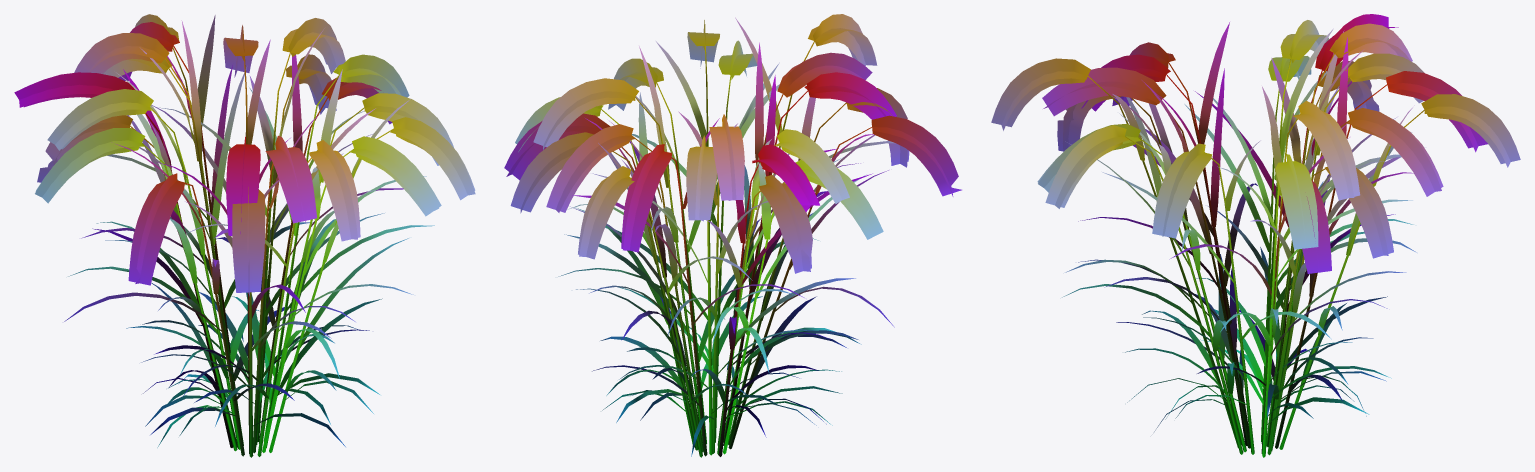
Rendered from Rice_Ripe_B_HD.fbx.
3 renders of one model, left to right at view 1: azimuth 30°, elevation 25°; view 2: azimuth 150°, elevation 25°; view 3: azimuth 270°, elevation 25°, orthographic. The views are drawn at different scales.
Parts seen in each view (by area): view 1: Rice_Ripe_B_HD_LOD0; view 2: Rice_Ripe_B_HD_LOD0; view 3: Rice_Ripe_B_HD_LOD0.
Part boxes in pixels (x1=…): Rice_Ripe_B_HD_LOD0: x1=14, y1=14, x2=475, y2=457; Rice_Ripe_B_HD_LOD0: x1=504, y1=14, x2=961, y2=457; Rice_Ripe_B_HD_LOD0: x1=991, y1=14, x2=1520, y2=457.
Size of what is drawn, in the model's own units: 0.969 by 0.9724 by 1.16.
